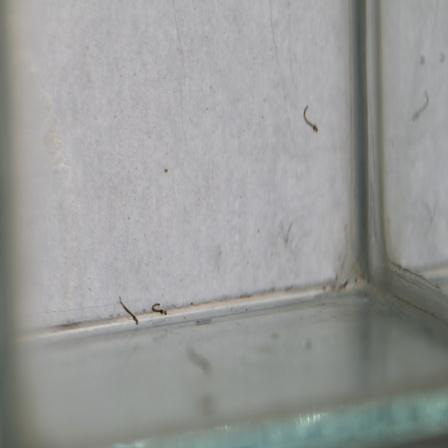Jentik-Nyamuk: (299, 101, 321, 137), (116, 297, 141, 328), (149, 298, 169, 318)
